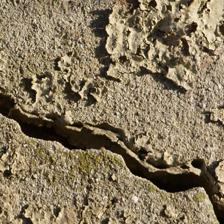Crack: (2, 47, 206, 149)
